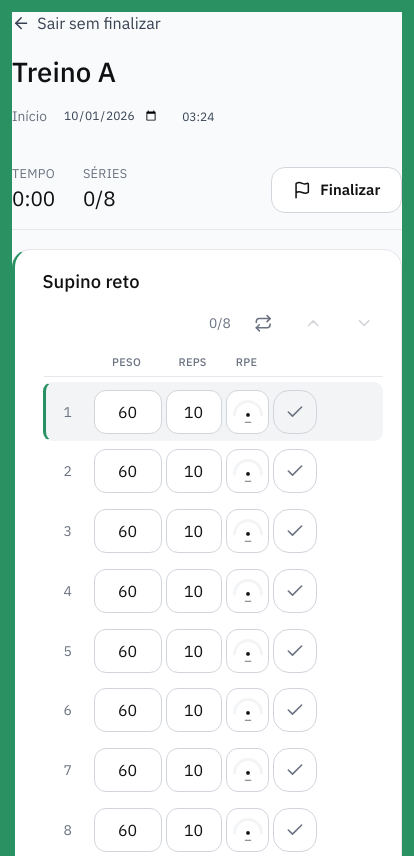
Test: marking two different sets done in the same React batch › keeps both edits — neither the UI nor storage drops one
The image size is (414, 856).
Check: the heading "Treino A" is shown, box [12,54,116,90]
Click the button named "Concluir série 2 de Supino reto": {"x": 296, "y": 471} [274,449,318,493]
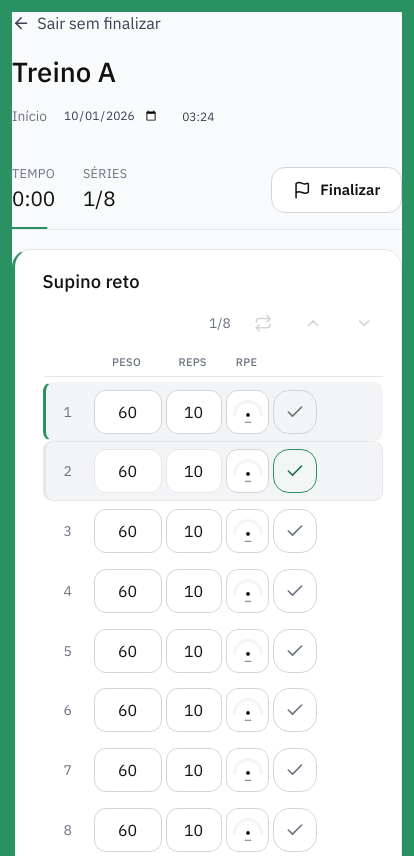
Click the button named "Concluir série 3 de Supino reto": {"x": 296, "y": 531} [274,509,318,553]
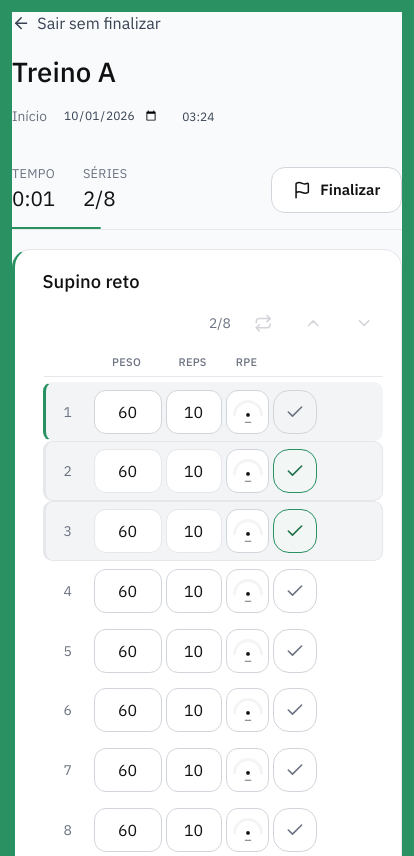
Check: the button named "Desmarcar série 2 de Supino reto" is shown, box [274,449,318,493]
Check: the button named "Desmarcar série 3 de Supino reto" is shown, box [274,509,318,553]
